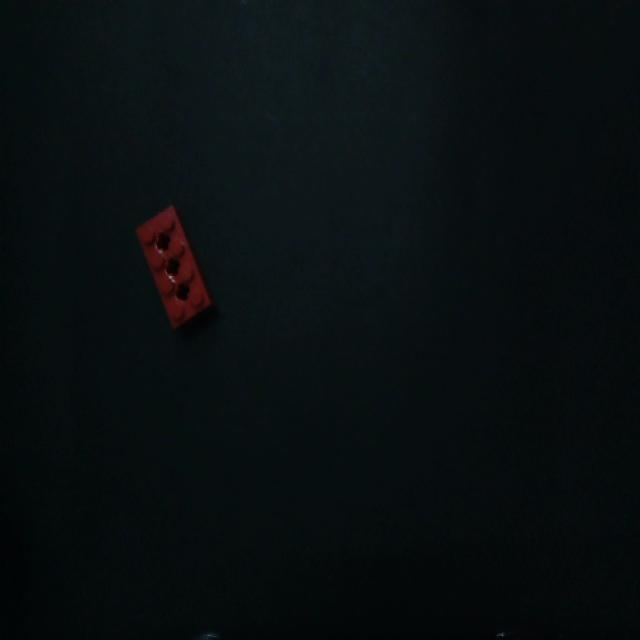lego_brick: (137, 207, 213, 327)
